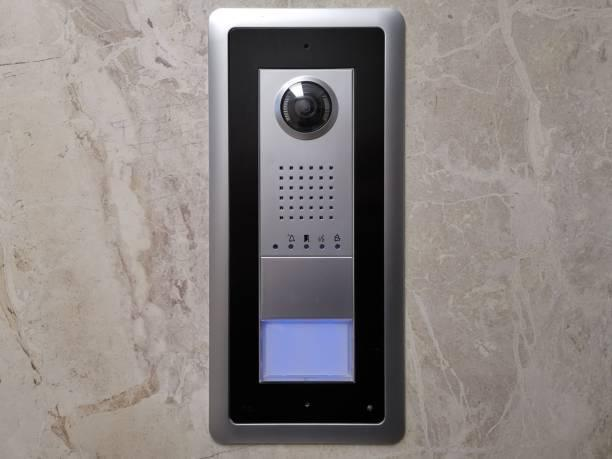camera: (229, 35, 384, 164)
